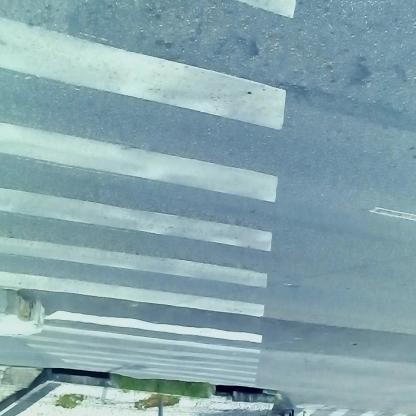crosswalk: (7, 12, 301, 377)
sidewalk: (4, 368, 289, 416)
